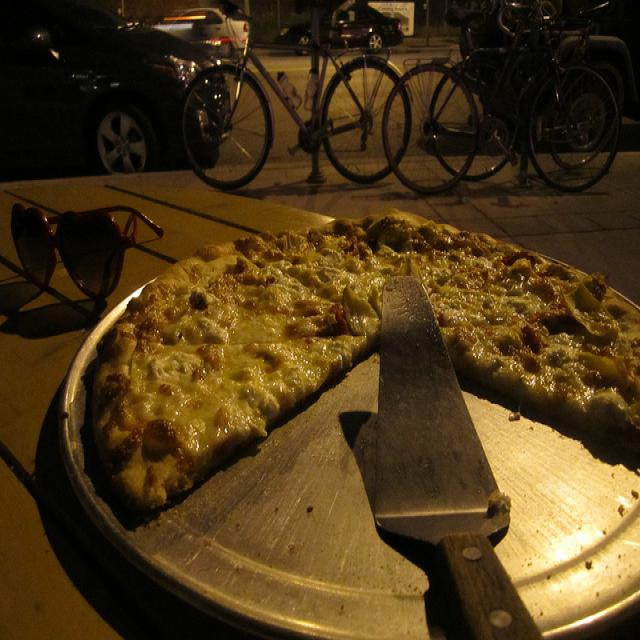Bicycle: (400, 35, 640, 209), (172, 12, 413, 185)
car: (0, 14, 225, 179)
